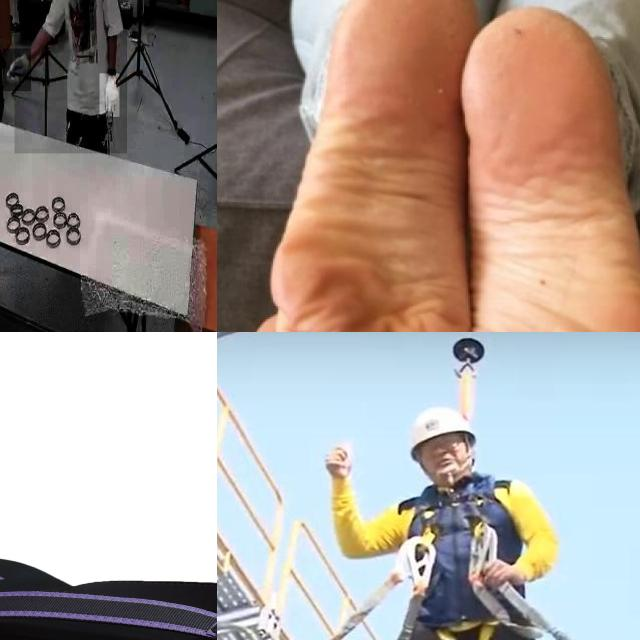Barefoots: (268, 0, 475, 332), (457, 0, 640, 332)
Harness: (387, 473, 544, 640)
Sandals: (0, 555, 217, 640)
hand_glove: (3, 48, 31, 92), (100, 73, 120, 118)
person: (14, 0, 127, 154)
